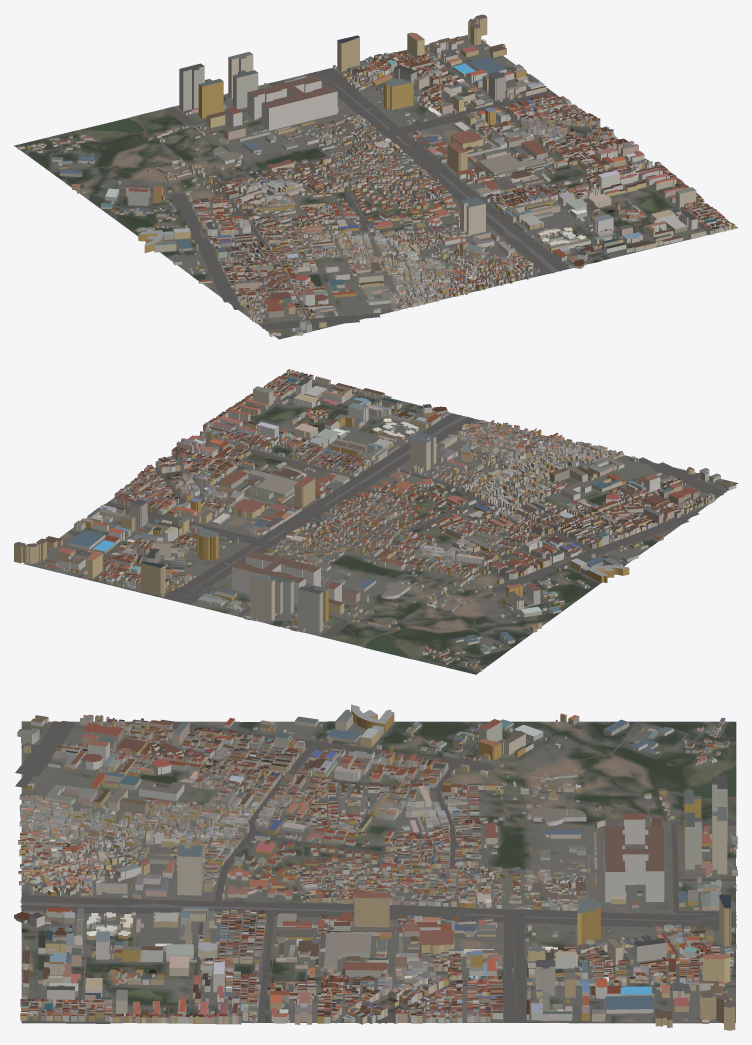
3 views of the same model, one above another, from view 1: azimuth 30°, elevation 25°; view 2: azimuth 150°, elevation 25°; view 3: azimuth 270°, elevation 25° (orthographic). The views are drawn at different scales.
Visible parts, largest first — view 1: buildings, ground, roads, water; view 2: buildings, ground, roads, water; view 3: buildings, ground, roads, water.
Part boxes in pixels (<box>): buildings: <box>17,14,735,336</box>; ground: <box>14,35,737,339</box>; roads: <box>25,38,737,331</box>; water: <box>80,97,614,286</box>; buildings: <box>14,369,736,671</box>; ground: <box>23,372,737,674</box>; roads: <box>37,373,726,672</box>; water: <box>272,406,655,658</box>; buildings: <box>14,704,737,1030</box>; ground: <box>21,721,736,1023</box>; roads: <box>15,719,736,1023</box>; water: <box>22,722,735,973</box>.
Size of the model in its own units: 1471 by 120 by 1420.
